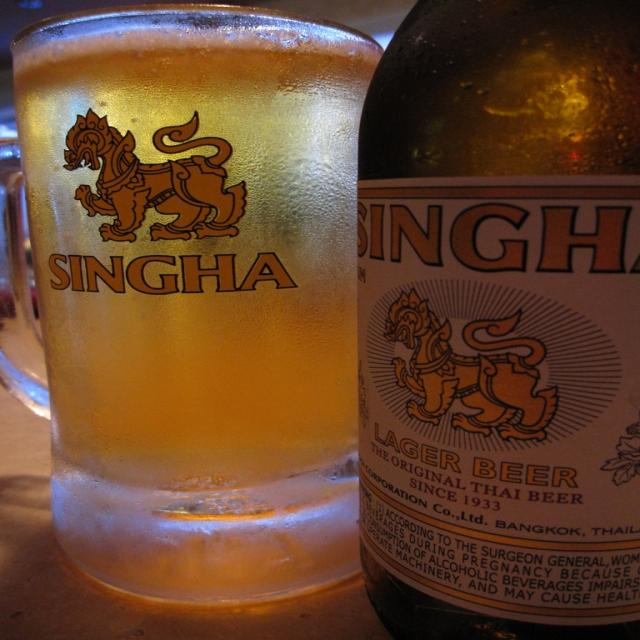singha: (358, 198, 640, 553), (34, 91, 311, 303)
